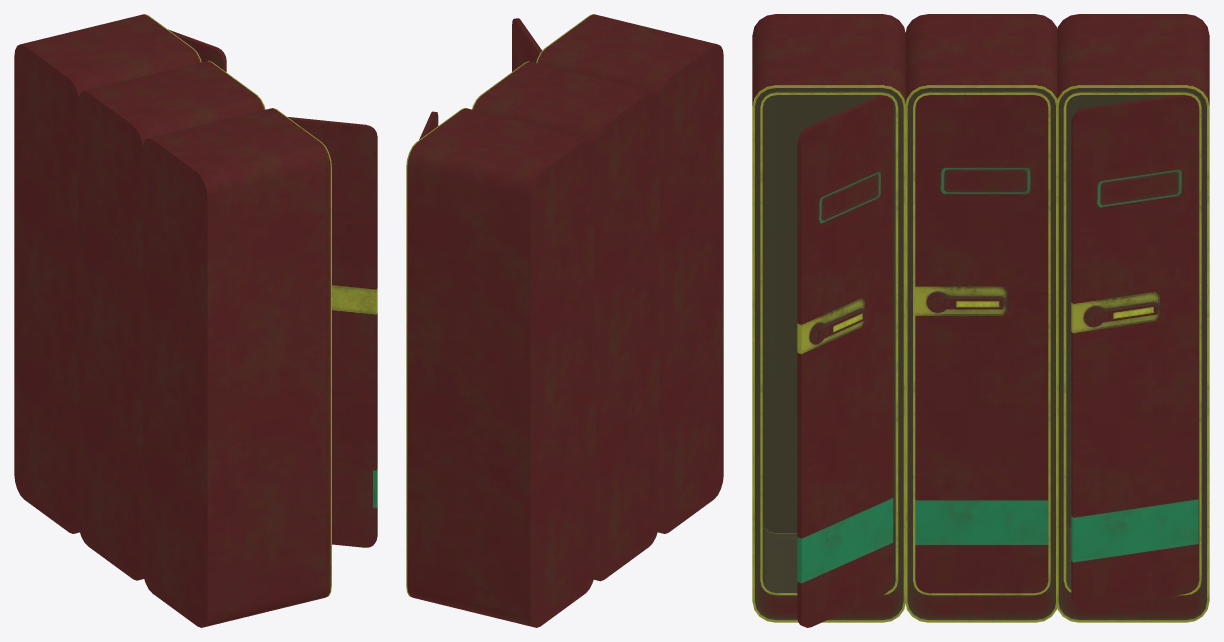
The model's file is locker.glb.
3 views of the same model, side by side, from view 1: azimuth 30°, elevation 25°; view 2: azimuth 150°, elevation 25°; view 3: azimuth 270°, elevation 25° (orthographic). The views are drawn at different scales.
Visible parts, largest first — view 1: locker_low_locker.001_0; view 2: locker_low_locker.001_0; view 3: locker_low_locker.001_0.
Boxes of the visible parts, <box> form: locker_low_locker.001_0: <box>14,14,377,627</box>; locker_low_locker.001_0: <box>406,14,723,627</box>; locker_low_locker.001_0: <box>752,14,1209,627</box>.
Size of the model in its own units: 0.7608 by 1.73 by 1.33.
Materials: 1 (1 with a texture image).
